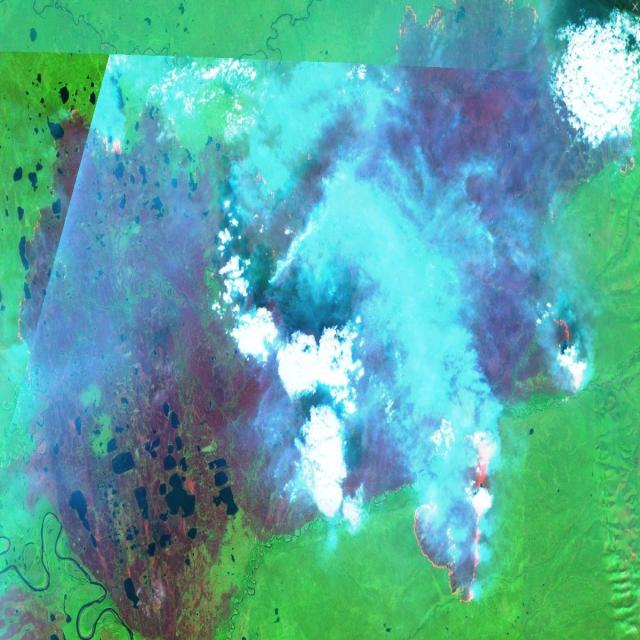fire: (55, 88, 610, 616)
